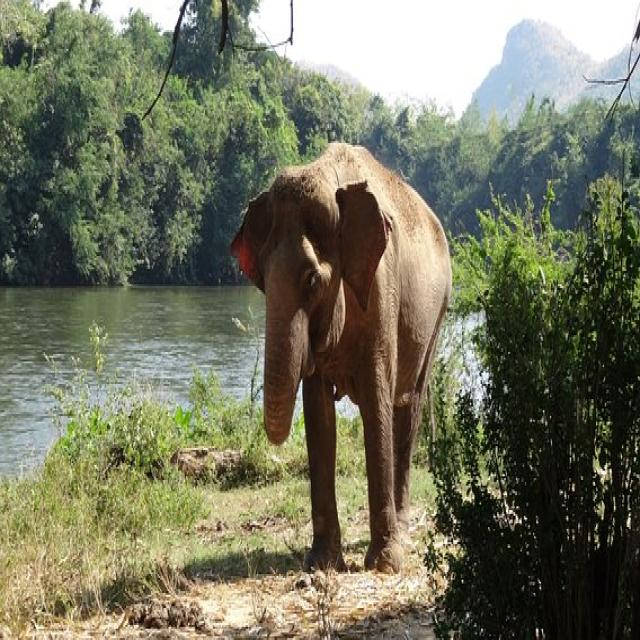Elephant: (228, 128, 468, 576)
